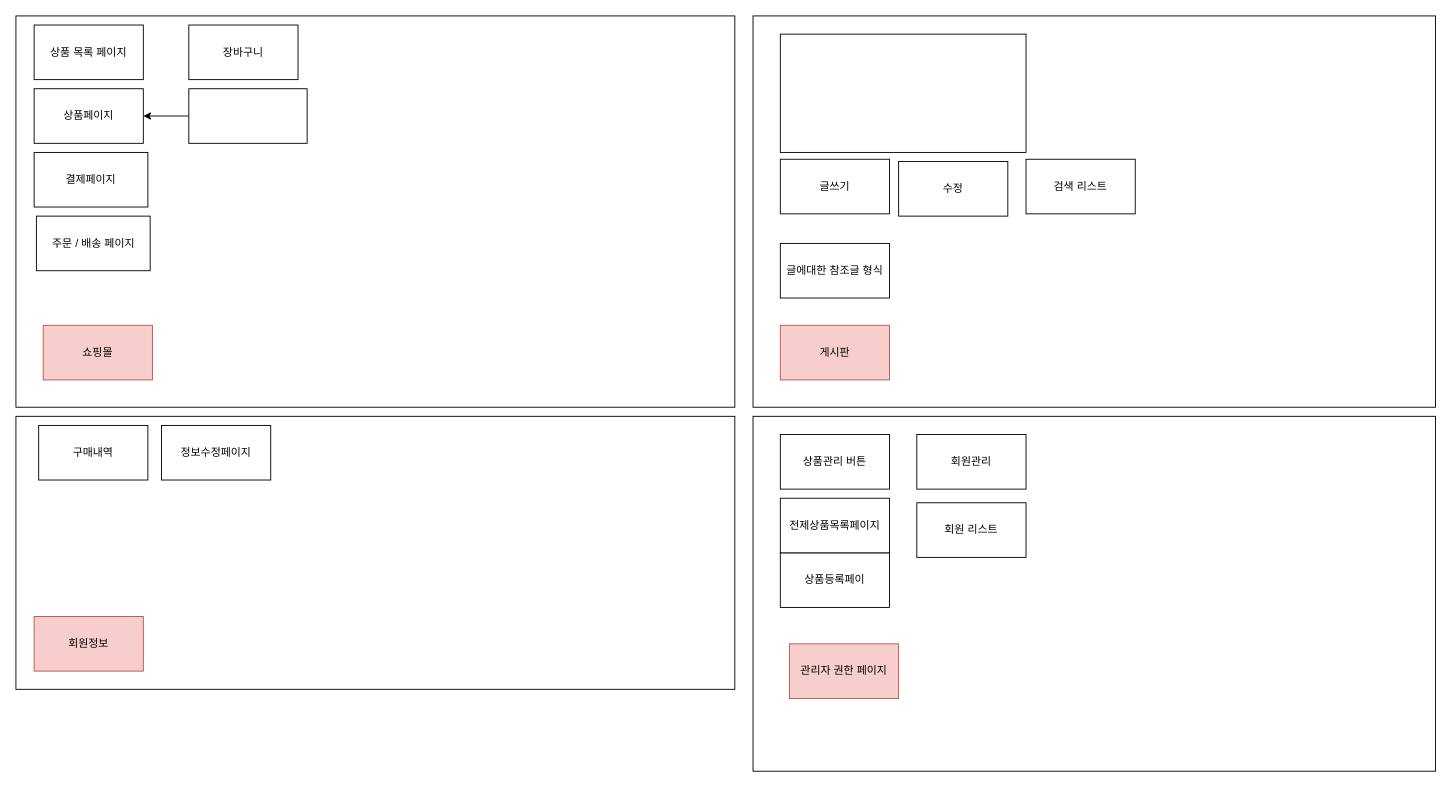
The diagram is 1451 pixels wide and 787 high, and some of its shapes have lost their labels. The shapes that lost their labels are listed below. From the top down, each one's box as (x1, y1, x2, y2) in pixels, then its label:
(779, 33, 1026, 152): 건의 / 문의 게시판 (전체리스트)
(188, 88, 307, 143): 리뷰
